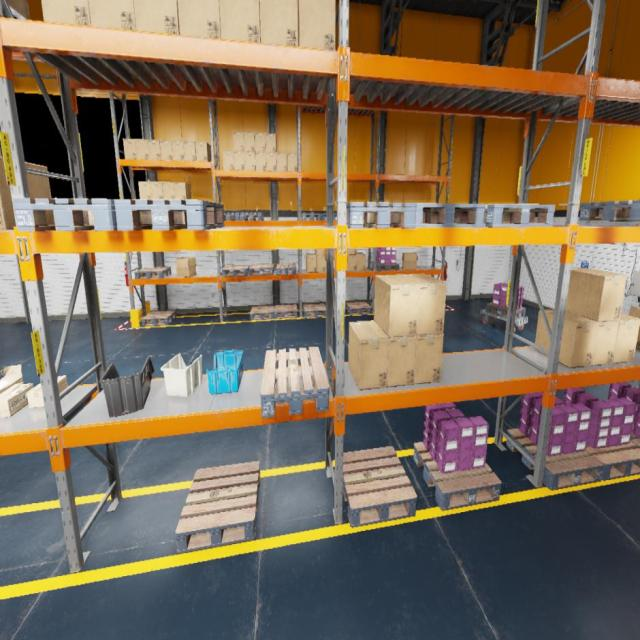box: (0, 156, 54, 229), (534, 309, 598, 368), (566, 268, 627, 322), (566, 311, 619, 366), (401, 273, 447, 336), (374, 274, 420, 337), (375, 321, 417, 387), (348, 321, 388, 390), (298, 0, 336, 50), (260, 0, 299, 46), (220, 0, 261, 42), (178, 0, 220, 39), (134, 0, 179, 34), (415, 333, 443, 384), (88, 0, 135, 30), (27, 376, 68, 408), (613, 314, 639, 363), (41, 0, 90, 25), (0, 382, 33, 418), (0, 364, 23, 394), (628, 306, 640, 351), (6, 0, 30, 20), (175, 258, 196, 276), (195, 142, 211, 161), (123, 138, 137, 159), (174, 183, 191, 200), (147, 140, 161, 159), (183, 141, 196, 161), (160, 140, 173, 160), (402, 253, 417, 269), (172, 140, 184, 160), (136, 139, 148, 159), (254, 132, 266, 152), (243, 131, 254, 152), (150, 182, 163, 199), (138, 182, 151, 199), (223, 150, 234, 170), (244, 152, 256, 170), (233, 132, 244, 151), (233, 151, 244, 170), (162, 183, 174, 200), (276, 152, 286, 172), (306, 254, 316, 273), (288, 153, 298, 172), (256, 152, 266, 171), (266, 152, 276, 171), (266, 133, 276, 152), (356, 253, 366, 271), (316, 255, 326, 272), (347, 255, 357, 271), (326, 255, 335, 272), (347, 248, 357, 254), (315, 250, 325, 256), (346, 255, 347, 271)
pallets: (175, 461, 260, 553), (506, 428, 604, 490), (343, 447, 418, 528), (413, 442, 501, 511), (261, 347, 329, 418), (12, 198, 140, 231), (113, 199, 224, 230), (580, 440, 640, 480), (346, 202, 416, 228), (416, 204, 486, 228), (484, 205, 556, 228), (579, 200, 639, 222), (486, 302, 526, 320), (141, 311, 176, 326), (134, 267, 171, 278), (250, 306, 274, 320), (274, 305, 298, 319), (222, 265, 249, 277), (304, 304, 326, 318), (346, 302, 371, 314), (248, 264, 274, 275), (277, 263, 296, 275), (372, 262, 399, 270), (240, 212, 264, 220), (302, 212, 322, 220), (630, 432, 640, 447), (224, 212, 240, 220), (323, 213, 337, 220), (371, 301, 372, 308)
